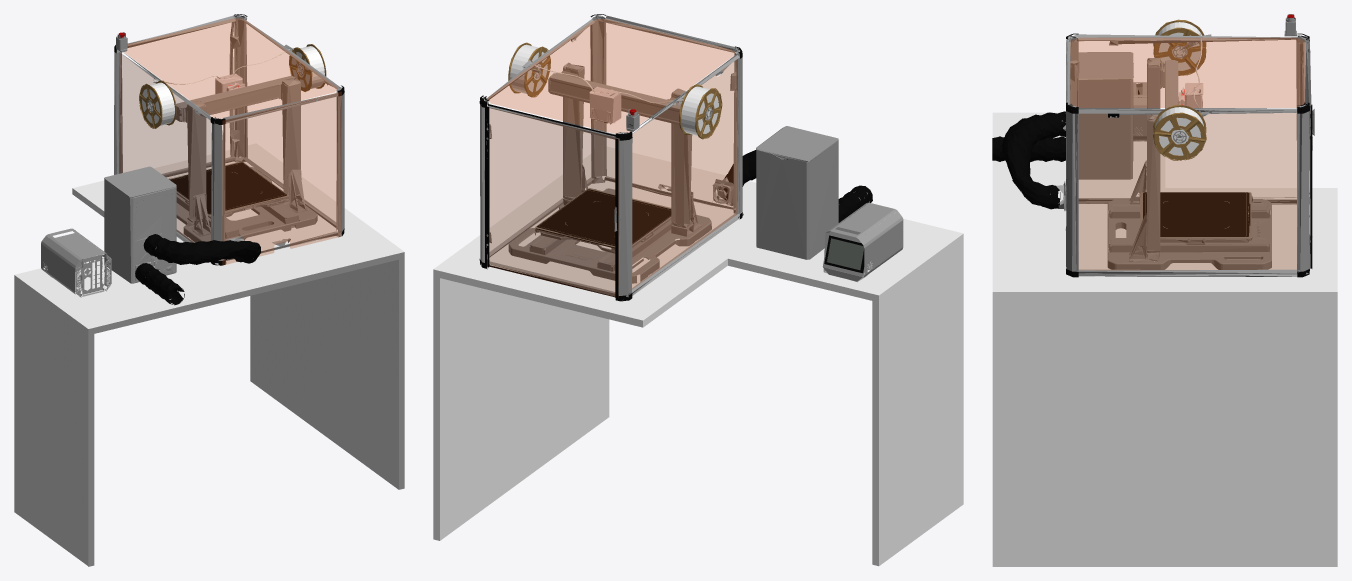
Rendered from mexSkin.glb.
3 views of the same model, side by side, from view 1: azimuth 30°, elevation 25°; view 2: azimuth 150°, elevation 25°; view 3: azimuth 270°, elevation 25° (orthographic). The views are drawn at different scales.
Visible parts, largest first — view 1: 9_Table-1, 2_ArtisanHousing-1.002, 2_ArtisanHousing-1.001, 4_AirPurifier-1.411, 1_ArtisanPrinter-1.011, 3_ArtisanICU-1.1837, 10_AirTube-1.001, BuildPlate, 1_ArtisanPrinter-1.006, 1_ArtisanPrinter-1.013, PrintingMaterial, PrinitingMaterial 01 (+3 smaller); view 2: 9_Table-1, 2_ArtisanHousing-1.002, 2_ArtisanHousing-1.001, 4_AirPurifier-1.411, 1_ArtisanPrinter-1.011, BuildPlate, 1_ArtisanPrinter-1.006, 3_ArtisanICU-1.1837, 2_ArtisanHousing-1.008, 1_ArtisanPrinter-1.013, PrintingMaterial, PrinitingMaterial 01 (+5 smaller); view 3: 9_Table-1, 2_ArtisanHousing-1.002, 2_ArtisanHousing-1.001, 4_AirPurifier-1.411, BuildPlate, 1_ArtisanPrinter-1.006, 1_ArtisanPrinter-1.011, 10_AirTube-1.001, PrinitingMaterial 01, 1_ArtisanPrinter-1.008, PrintingMaterial, 10_AirTube-1 (+5 smaller).
Part boxes in pixels (x1=…): 9_Table-1: x1=14, y1=143, x2=404, y2=566; 2_ArtisanHousing-1.002: x1=119, y1=18, x2=341, y2=264; 2_ArtisanHousing-1.001: x1=114, y1=15, x2=344, y2=265; 4_AirPurifier-1.411: x1=104, y1=166, x2=176, y2=283; 1_ArtisanPrinter-1.011: x1=183, y1=78, x2=305, y2=234; 3_ArtisanICU-1.1837: x1=41, y1=228, x2=111, y2=297; 10_AirTube-1.001: x1=143, y1=234, x2=261, y2=264; BuildPlate: x1=169, y1=162, x2=286, y2=214; 1_ArtisanPrinter-1.006: x1=176, y1=167, x2=317, y2=242; 1_ArtisanPrinter-1.013: x1=175, y1=76, x2=295, y2=121; PrintingMaterial: x1=139, y1=80, x2=176, y2=128; PrinitingMaterial 01: x1=289, y1=44, x2=326, y2=91; 9_Table-1: x1=433, y1=146, x2=963, y2=566; 2_ArtisanHousing-1.002: x1=486, y1=19, x2=737, y2=297; 2_ArtisanHousing-1.001: x1=480, y1=15, x2=743, y2=300; 4_AirPurifier-1.411: x1=756, y1=126, x2=838, y2=259; 1_ArtisanPrinter-1.011: x1=559, y1=62, x2=698, y2=227; BuildPlate: x1=537, y1=189, x2=671, y2=246; 1_ArtisanPrinter-1.006: x1=508, y1=190, x2=711, y2=283; 3_ArtisanICU-1.1837: x1=822, y1=202, x2=903, y2=282; 2_ArtisanHousing-1.008: x1=479, y1=14, x2=742, y2=301; 1_ArtisanPrinter-1.013: x1=548, y1=73, x2=681, y2=124; PrintingMaterial: x1=679, y1=84, x2=722, y2=139; PrinitingMaterial 01: x1=508, y1=42, x2=550, y2=97; 9_Table-1: x1=992, y1=112, x2=1337, y2=566; 2_ArtisanHousing-1.002: x1=1070, y1=38, x2=1304, y2=270; 2_ArtisanHousing-1.001: x1=1056, y1=34, x2=1314, y2=276; 4_AirPurifier-1.411: x1=1062, y1=52, x2=1133, y2=179; BuildPlate: x1=1143, y1=192, x2=1250, y2=236; 1_ArtisanPrinter-1.006: x1=1107, y1=199, x2=1271, y2=269; 1_ArtisanPrinter-1.011: x1=1129, y1=58, x2=1164, y2=258; 10_AirTube-1.001: x1=1002, y1=111, x2=1065, y2=209; PrinitingMaterial 01: x1=1153, y1=104, x2=1206, y2=160; 1_ArtisanPrinter-1.008: x1=1110, y1=204, x2=1269, y2=257; PrintingMaterial: x1=1153, y1=19, x2=1206, y2=75; 10_AirTube-1: x1=992, y1=136, x2=1065, y2=161.
Size of the model in its own units: 1.6 by 1.93 by 1.3.
